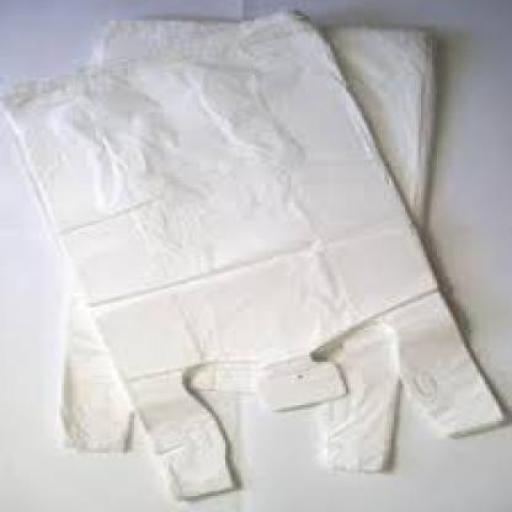plastic: (4, 14, 506, 504), (54, 22, 432, 476)
